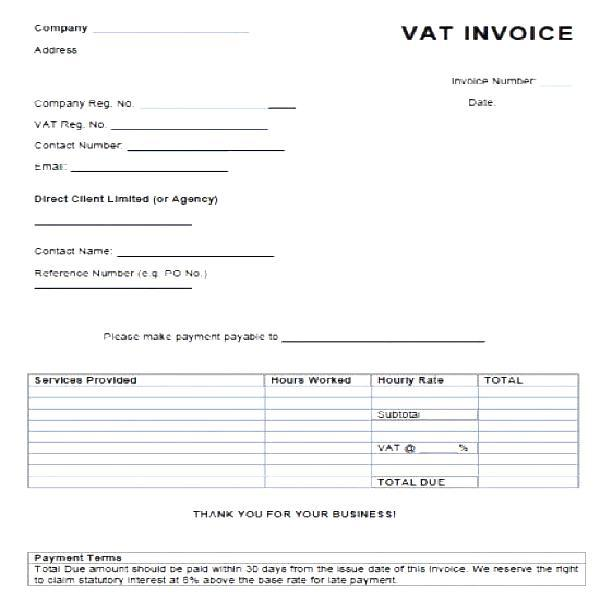test: (28, 373, 578, 487)
